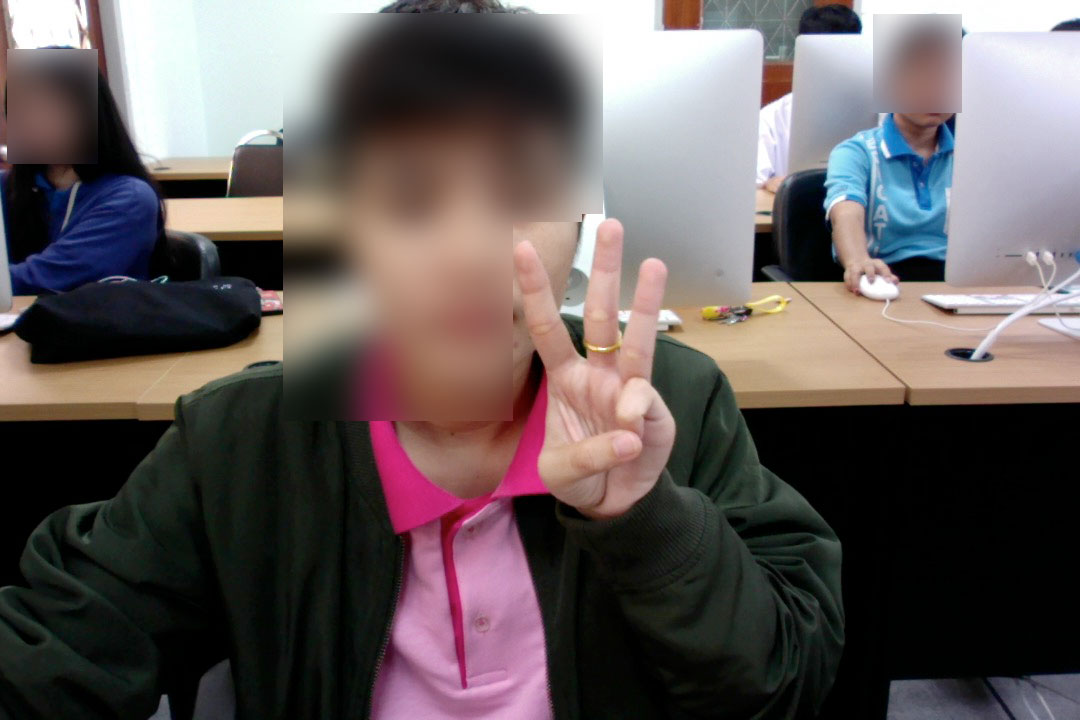wor: (494, 210, 702, 522)
